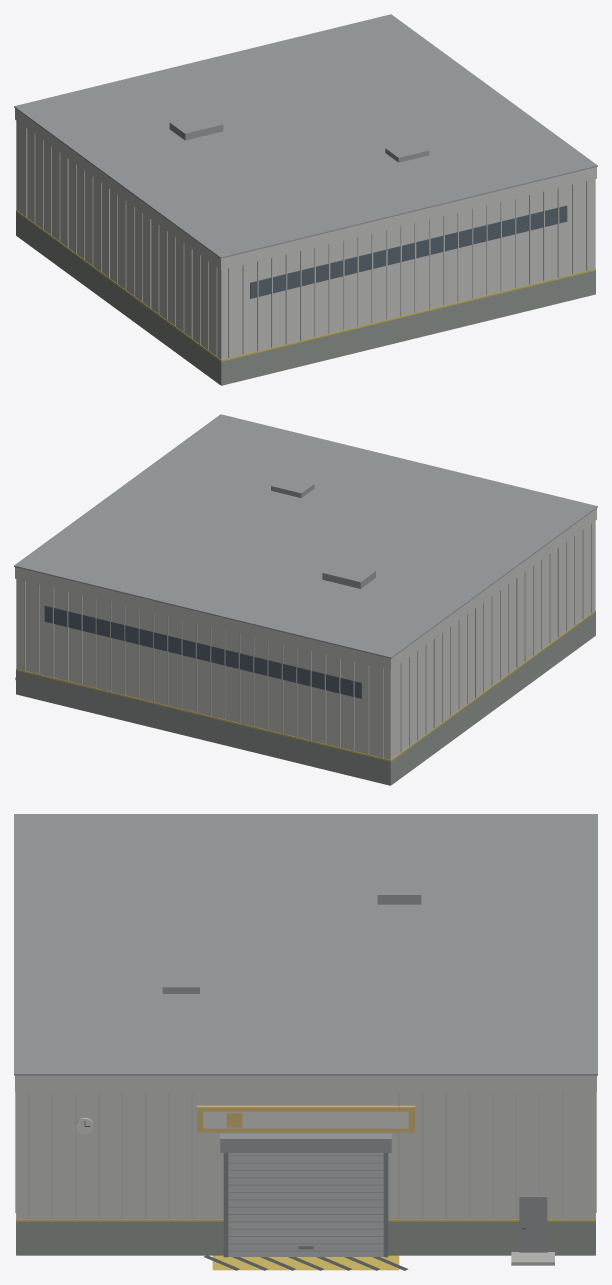
Rendered from depot_west.glb.
3 views of the same model, one above another, from view 1: azimuth 30°, elevation 25°; view 2: azimuth 150°, elevation 25°; view 3: azimuth 270°, elevation 25° (orthographic). The views are drawn at different scales.
Visible parts, largest first — view 1: Static; view 2: Static; view 3: Static, Shutter.
Part boxes in pixels (x1,y1,x2,y2): Static: (14, 14, 597, 385); Static: (14, 414, 597, 785); Static: (14, 814, 597, 1270); Shutter: (228, 1153, 383, 1256).
Size of the model in its own units: 20.87 by 6.81 by 18.76.
